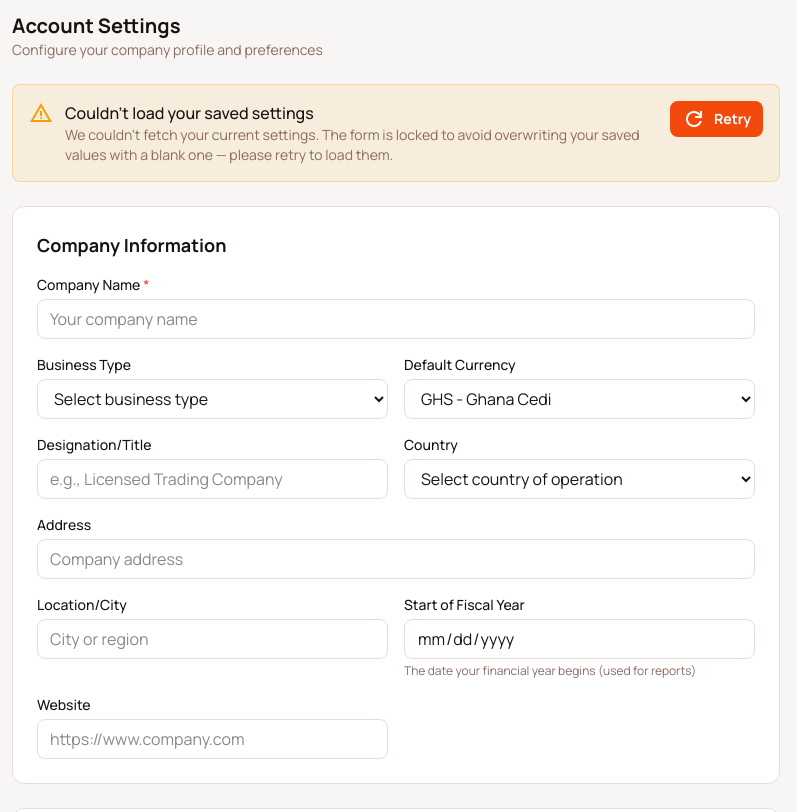
AccountSettingsPage (SOUPFIN-23 — session-expiry redirect locks the form) › unlocks the form once a Retry loads the real settings
Expected: the message with test id "account-settings-load-error" is shown, 12,84 -> 780,182
What coordinates should you click on to do the following:
click the button with test id "account-settings-load-error-retry"
I would click on:
 (717, 119)
Its box is 670,101 -> 763,137.
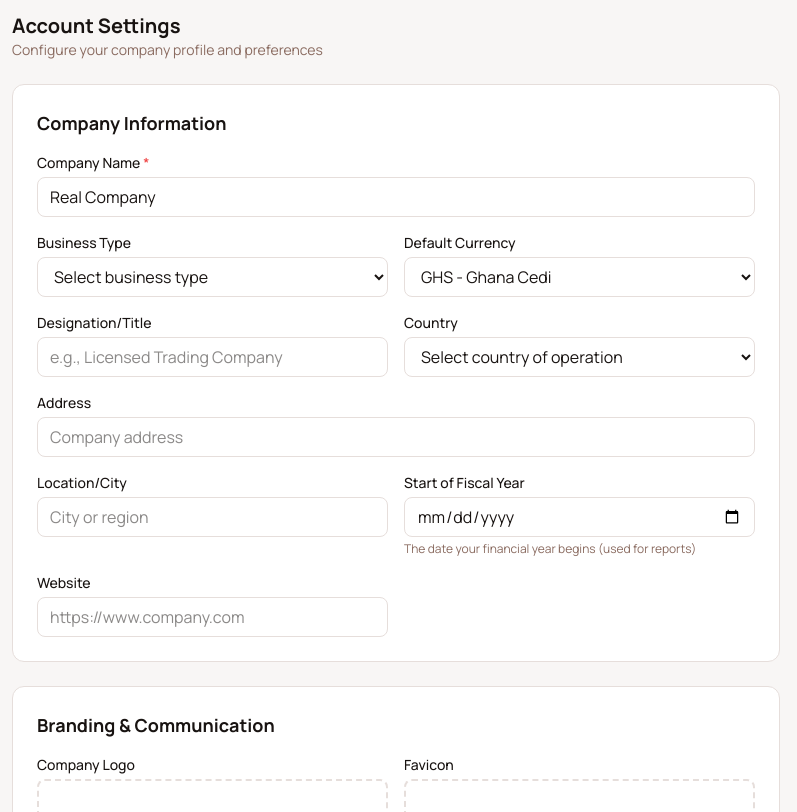
Expected: the message with test id "account-settings-load-error" is gone
Expected: the field showing "Real Company" is shown, 37,177 -> 755,217
